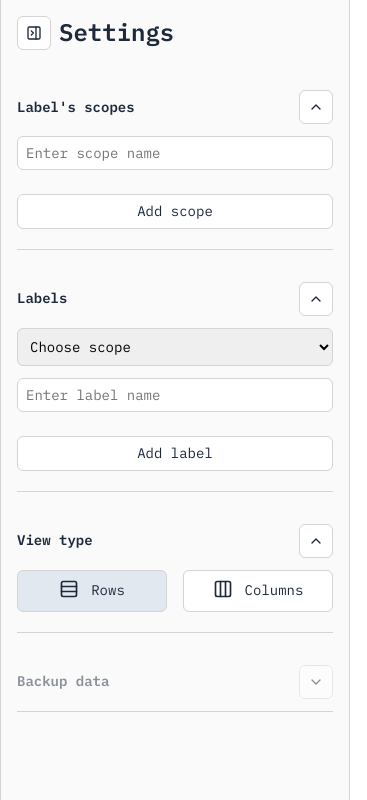
Scenario: BaseSettings › should render import/export buttons
The image size is (367, 800).
What coordinates should you click on to do the following:
click the button titled "Collapse/Expand" in the row of "Backup data"
I would click on:
 (316, 682)
Its box is [299, 665, 333, 699].
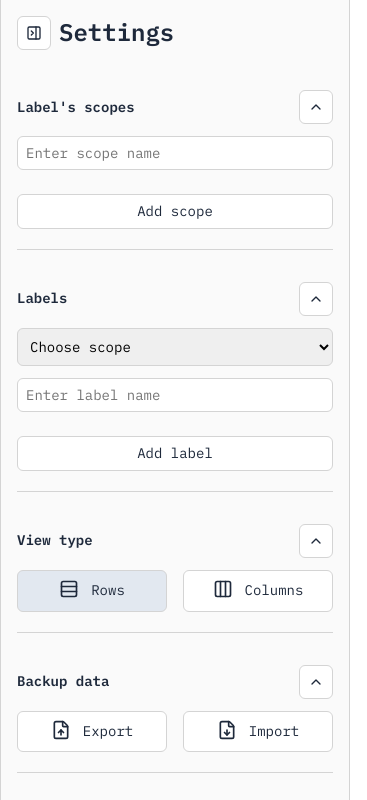
Result: the button with test id "export-data-button" is shown at [17, 711, 167, 752]
Result: the button with test id "import-data-button" is shown at [183, 711, 333, 752]
